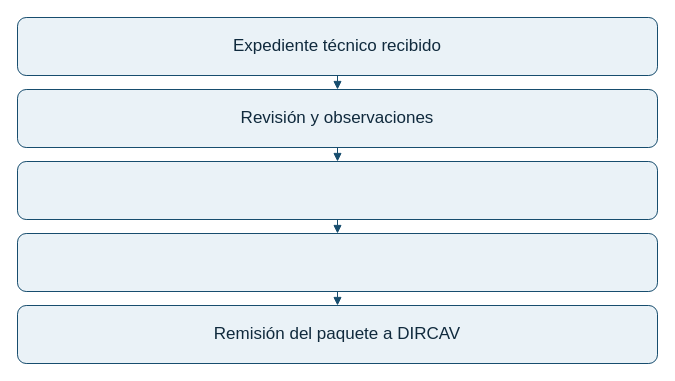
Image size: 675x381. Some labels were removed from this diagram. The box of each missing label's shape, as (x1, y1, x2, y2) in pixels:
Remisión documental a DIRCAV: (16, 160, 658, 220)
Revisión del paquete final: (16, 232, 658, 292)
